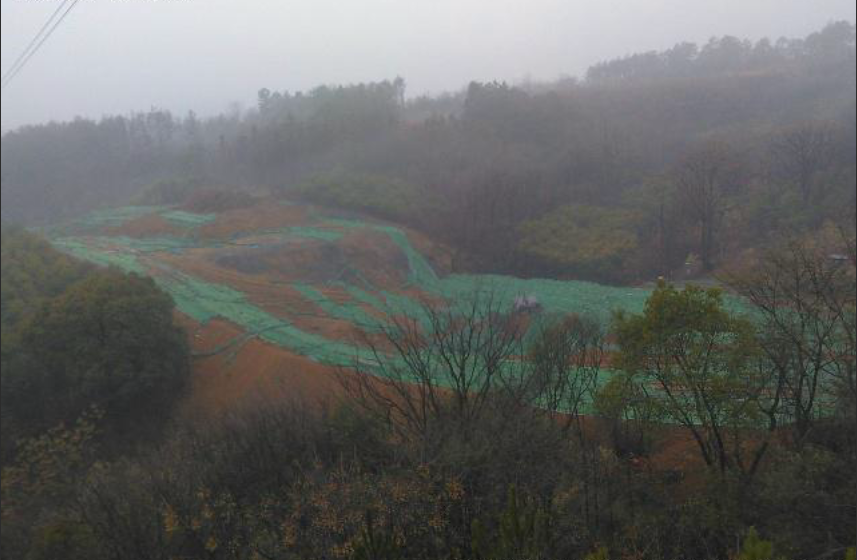绿膜: (297, 268, 856, 431), (175, 263, 299, 360), (47, 237, 183, 303), (22, 202, 176, 240), (175, 225, 345, 248), (303, 203, 390, 232), (385, 225, 433, 272), (174, 208, 220, 229)
